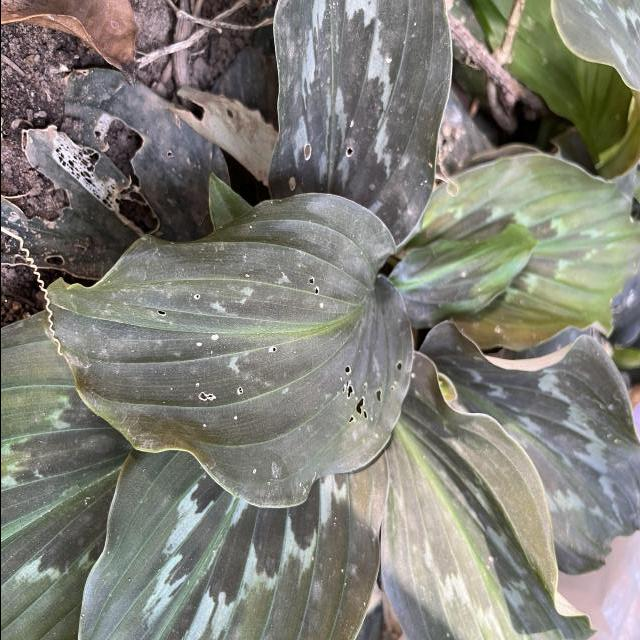Kaempferia galanga linn: (34, 188, 415, 512)
